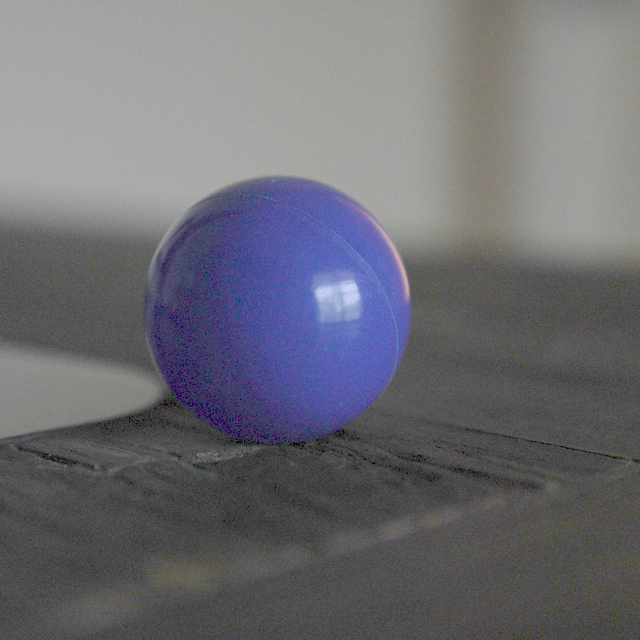Ball: (147, 175, 409, 442)
